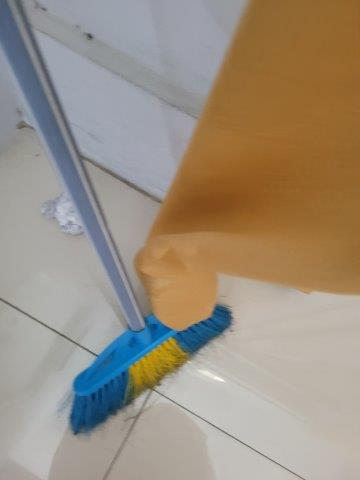kertas: (36, 195, 83, 237)
